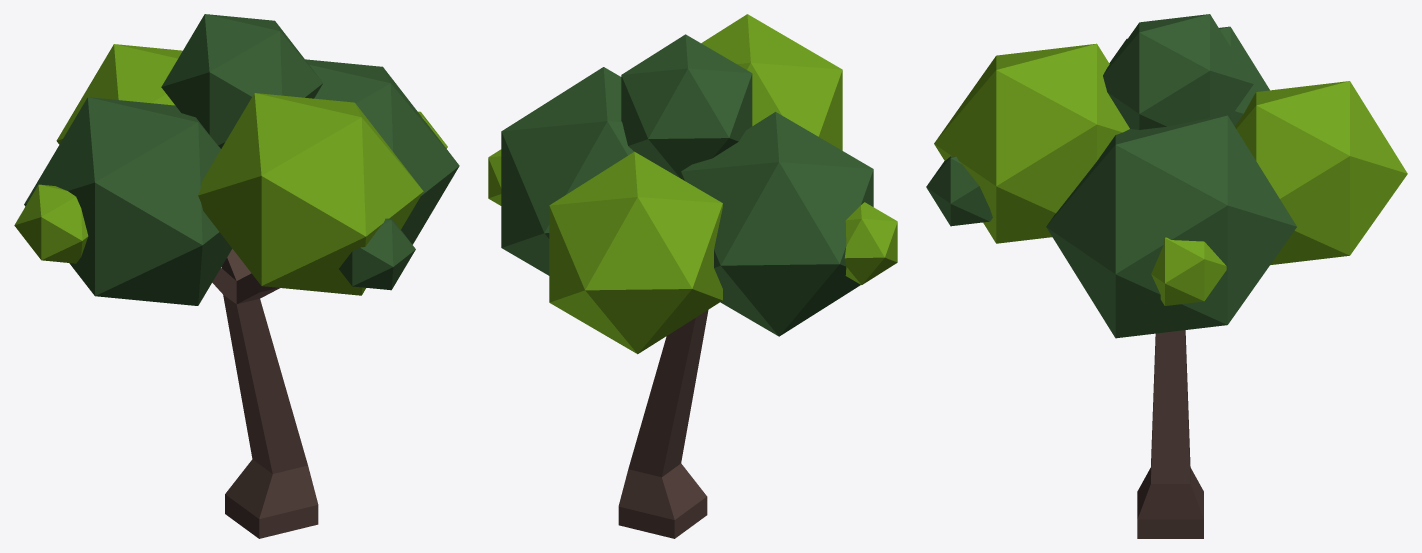
File: tree1.fbx
The picture shows the model from 3 angles, left to right: view 1: azimuth 30°, elevation 25°; view 2: azimuth 150°, elevation 25°; view 3: azimuth 270°, elevation 25°; orthographic projection. The views are drawn at different scales.
Visible parts, largest first — view 1: polySurface4; view 2: polySurface4; view 3: polySurface4.
Part boxes in pixels (x1,y1,x2,y2): polySurface4: (14, 14, 459, 538); polySurface4: (488, 14, 897, 538); polySurface4: (926, 14, 1407, 538).
Size of the model in its own units: 7.08 by 8.1 by 7.24.
